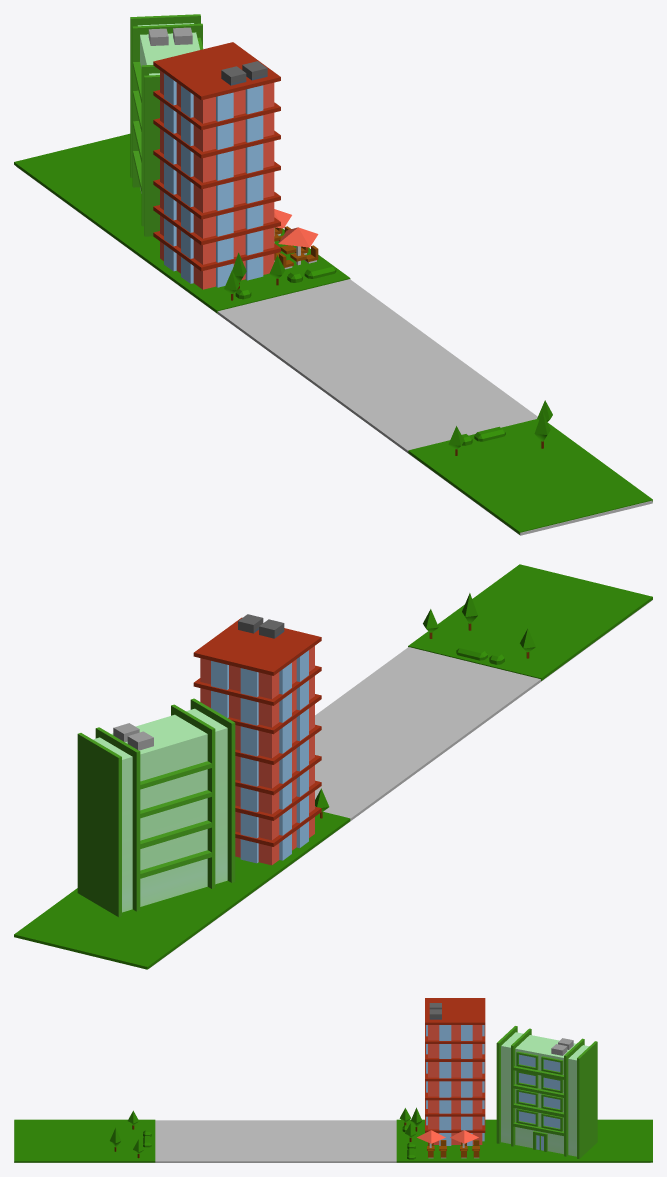
File: Level 1 Chunk 4.fbx
3 renders of one model, top to bottom at view 1: azimuth 30°, elevation 25°; view 2: azimuth 150°, elevation 25°; view 3: azimuth 270°, elevation 25°, orthographic. The views are drawn at different scales.
Visible parts, largest first — view 1: Building_B5, pCube1798, pCube1797, pCube1799, Building_D6; view 2: Building_D6, Building_B5, pCube1798, pCube1797, pCube1799; view 3: Building_D6, pCube1798, Building_B5, pCube1799, pCube1797.
Boxes of the visible parts, x1,y1,x2,y2 form: Building_B5: [153, 42, 280, 289]; pCube1798: [16, 166, 652, 535]; pCube1797: [408, 419, 652, 534]; pCube1799: [14, 133, 350, 312]; Building_D6: [130, 14, 203, 236]; Building_D6: [77, 698, 235, 916]; Building_B5: [193, 614, 321, 865]; pCube1798: [149, 600, 652, 968]; pCube1797: [408, 564, 652, 680]; pCube1799: [14, 811, 350, 969]; Building_D6: [496, 1026, 597, 1158]; pCube1798: [14, 1120, 650, 1162]; Building_B5: [425, 998, 485, 1145]; pCube1799: [396, 1119, 652, 1162]; pCube1797: [14, 1119, 155, 1162].
Size of the model in its own units: 6.13 by 9.14 by 40.27.
1 material, 1 textured.
